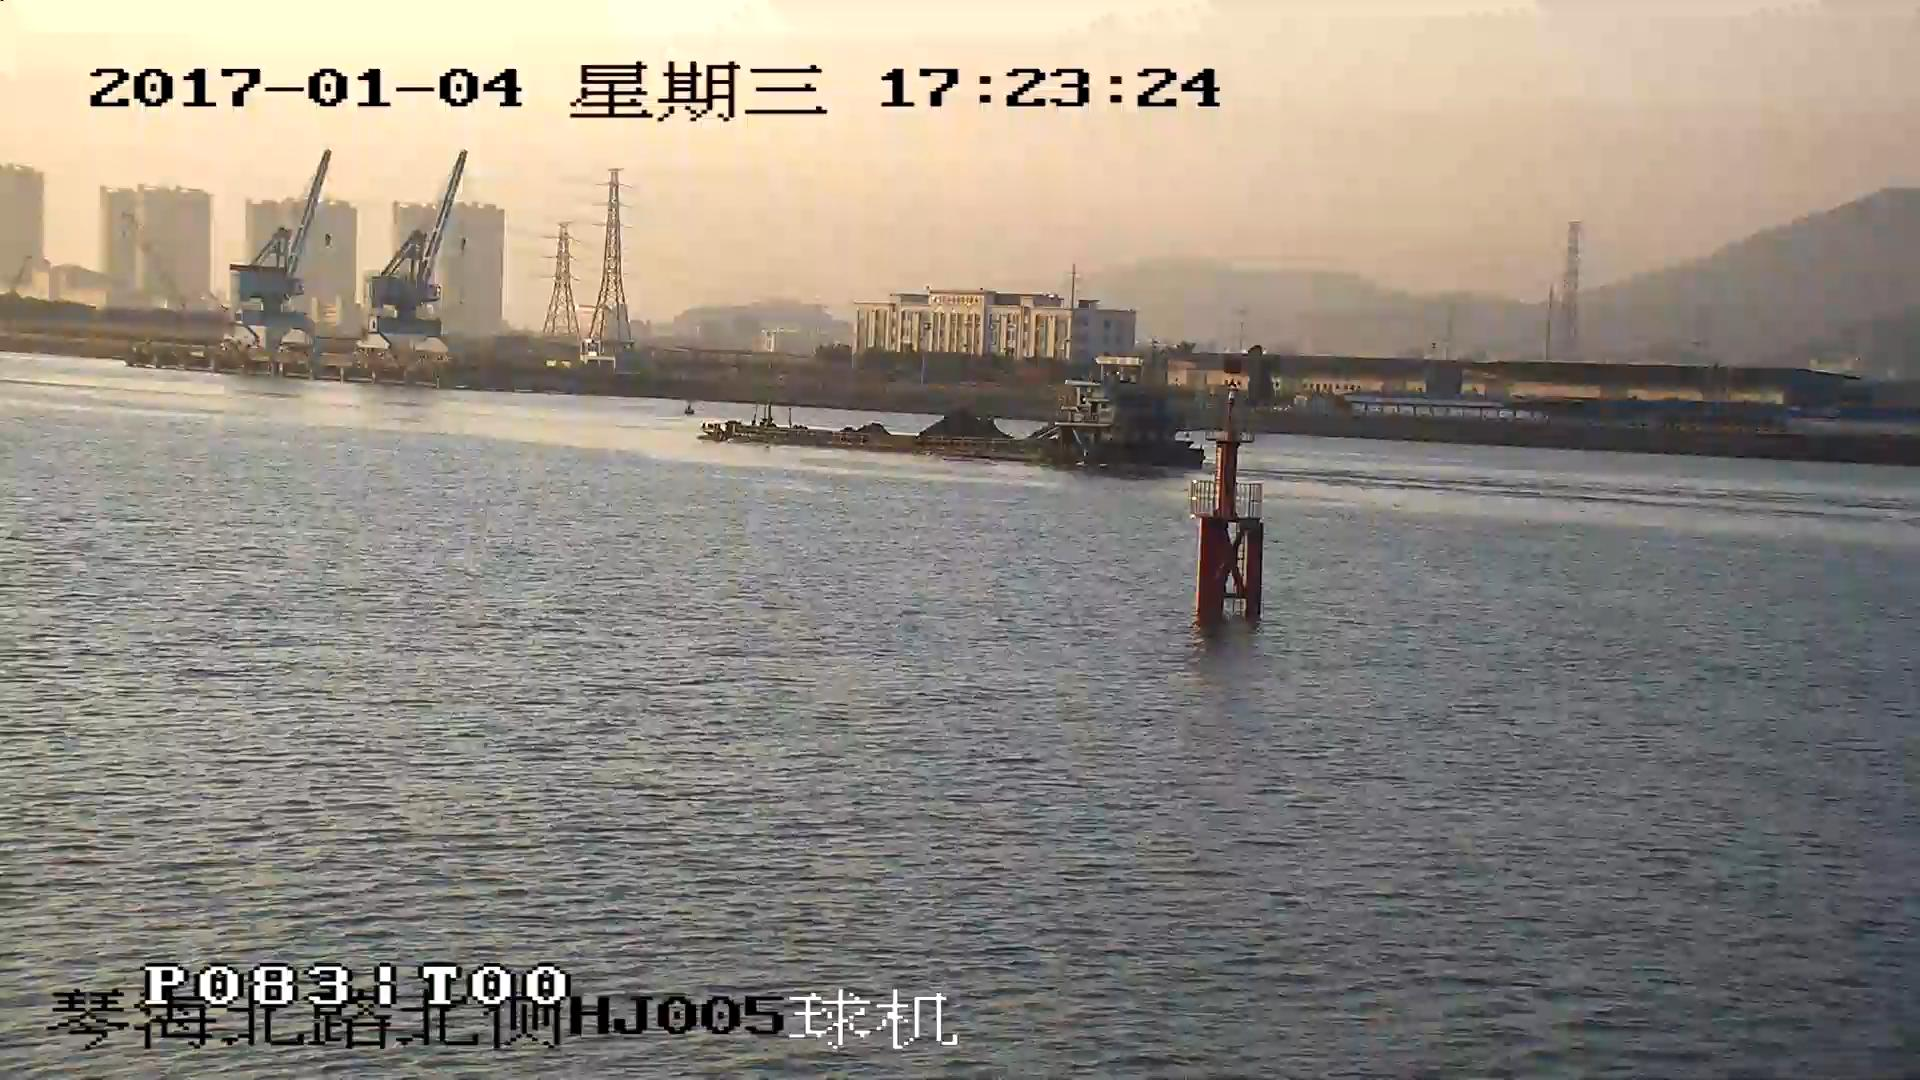ore carrier: (705, 381, 1200, 472)
